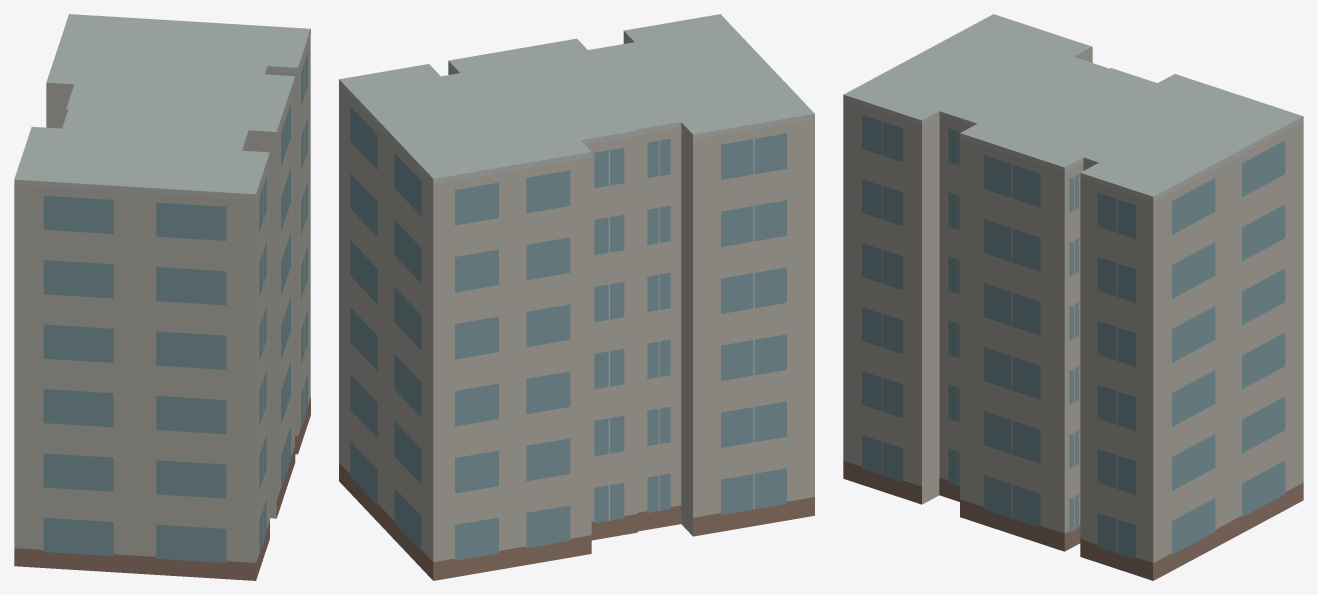
Rendered from survey-upis-32665046.glb.
The picture shows the model from 3 angles, left to right: view 1: azimuth 30°, elevation 25°; view 2: azimuth 150°, elevation 25°; view 3: azimuth 270°, elevation 25°; orthographic projection. The views are drawn at different scales.
Visible parts, largest first — view 1: survey-upis-32665046.tmp; view 2: survey-upis-32665046.tmp; view 3: survey-upis-32665046.tmp.
Part boxes in pixels (<box>): survey-upis-32665046.tmp: <box>14,14,310,580</box>; survey-upis-32665046.tmp: <box>339,14,814,580</box>; survey-upis-32665046.tmp: <box>843,14,1303,580</box>.
Size of the model in its own units: 18.69 by 18.3 by 19.87.
